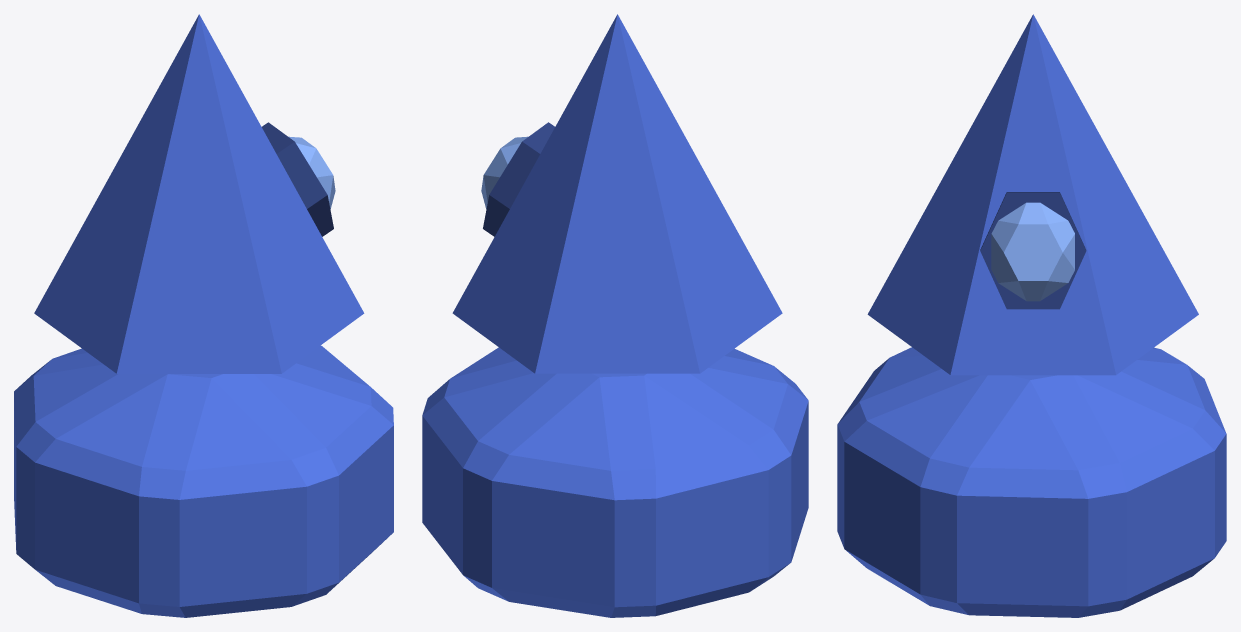
The model's file is robot 2.fbx.
3 views of the same model, side by side, from view 1: azimuth 30°, elevation 25°; view 2: azimuth 150°, elevation 25°; view 3: azimuth 270°, elevation 25° (orthographic).
Parts seen in each view (by area): view 1: Sphere, Cone, Cylinder, Cylinder.001; view 2: Sphere, Cone, Cylinder, Cylinder.001; view 3: Sphere, Cone, Cylinder.001, Cylinder.
Boxes of the visible parts, x1=… form: Sphere: x1=14, y1=345, x2=393, y2=617; Cone: x1=34, y1=14, x2=364, y2=373; Cylinder: x1=262, y1=122, x2=333, y2=236; Cylinder.001: x1=288, y1=136, x2=335, y2=209; Sphere: x1=422, y1=347, x2=808, y2=617; Cone: x1=452, y1=14, x2=782, y2=373; Cylinder: x1=483, y1=122, x2=554, y2=236; Cylinder.001: x1=481, y1=136, x2=528, y2=208; Sphere: x1=837, y1=347, x2=1226, y2=617; Cone: x1=867, y1=14, x2=1198, y2=375; Cylinder.001: x1=991, y1=202, x2=1074, y2=301; Cylinder: x1=980, y1=192, x2=1086, y2=309.
Size of the model in its own units: 162 by 267 by 164.
